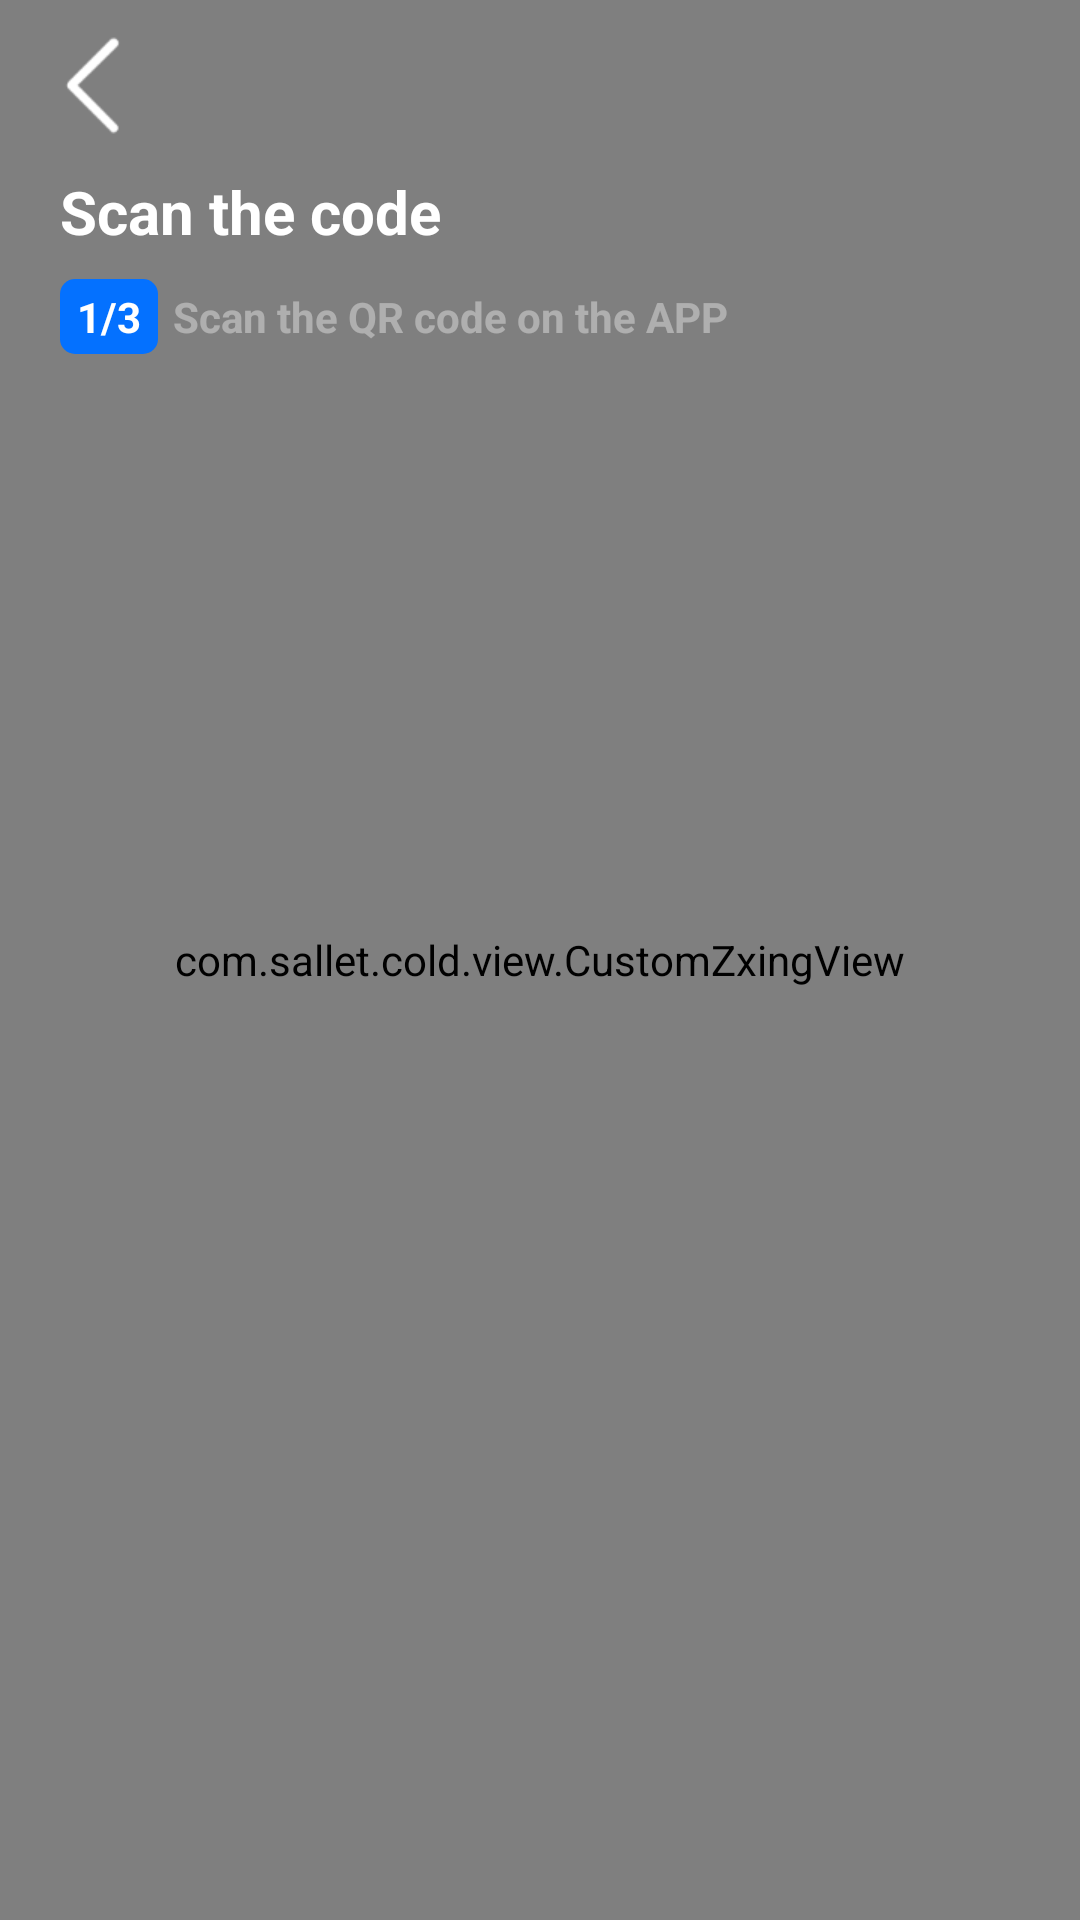

Icons on this 1080px x 1920px Android screen, each with the point to tap as [x,y]:
back: [93,85]
